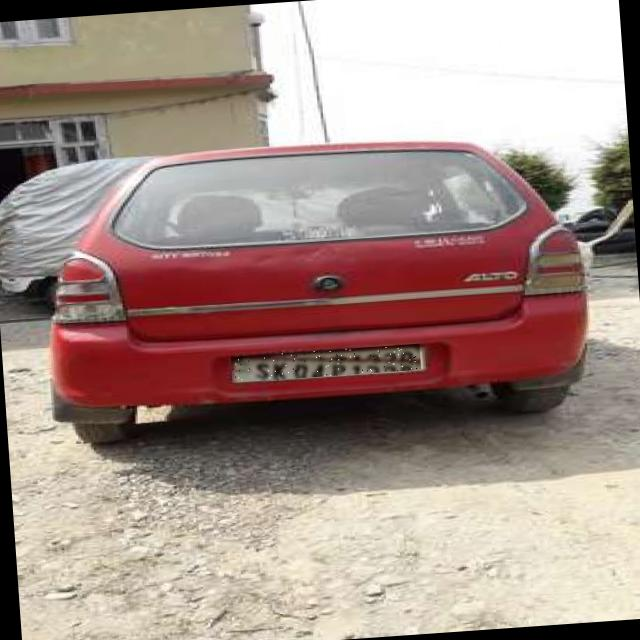Plate: (232, 344, 422, 383)
